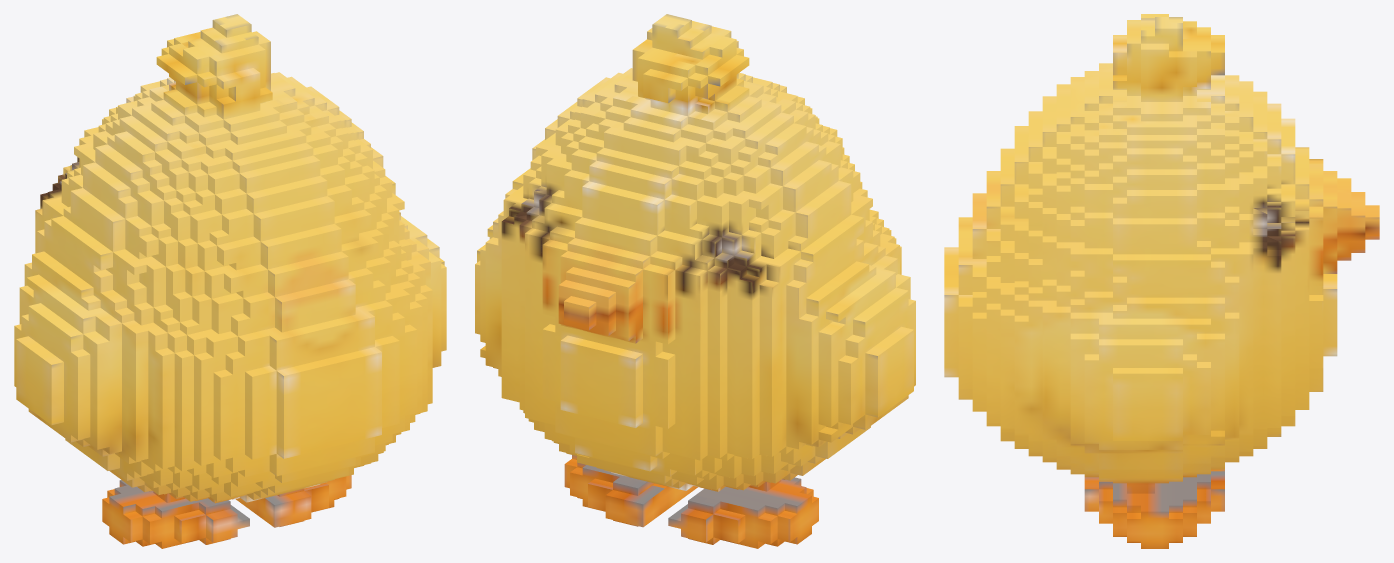
File: voxel.glb
3 renders of one model, left to right at view 1: azimuth 30°, elevation 25°; view 2: azimuth 150°, elevation 25°; view 3: azimuth 270°, elevation 25°, orthographic. The views are drawn at different scales.
Size of the model in its own units: 0.8534 by 1 by 0.824.
1 material, 1 textured.
